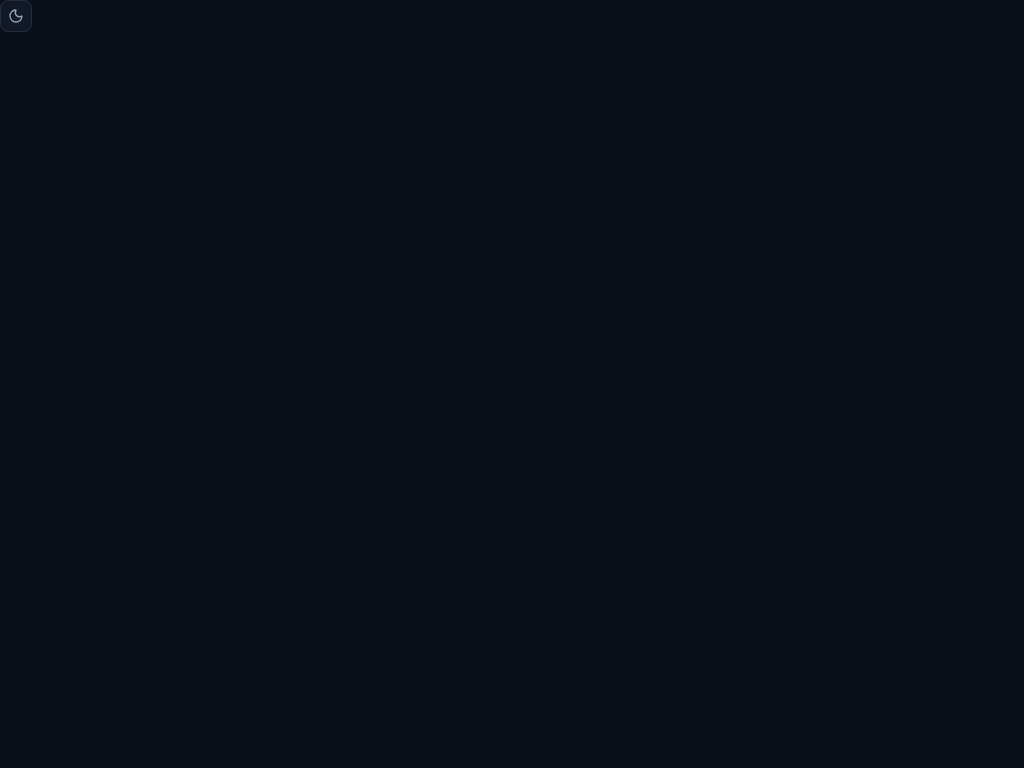
Test: ThemeToggle › cycles on click and updates its own label
The width and height of the screenshot is (1024, 768).
Click the button at (16,16), box [0,0,32,32]
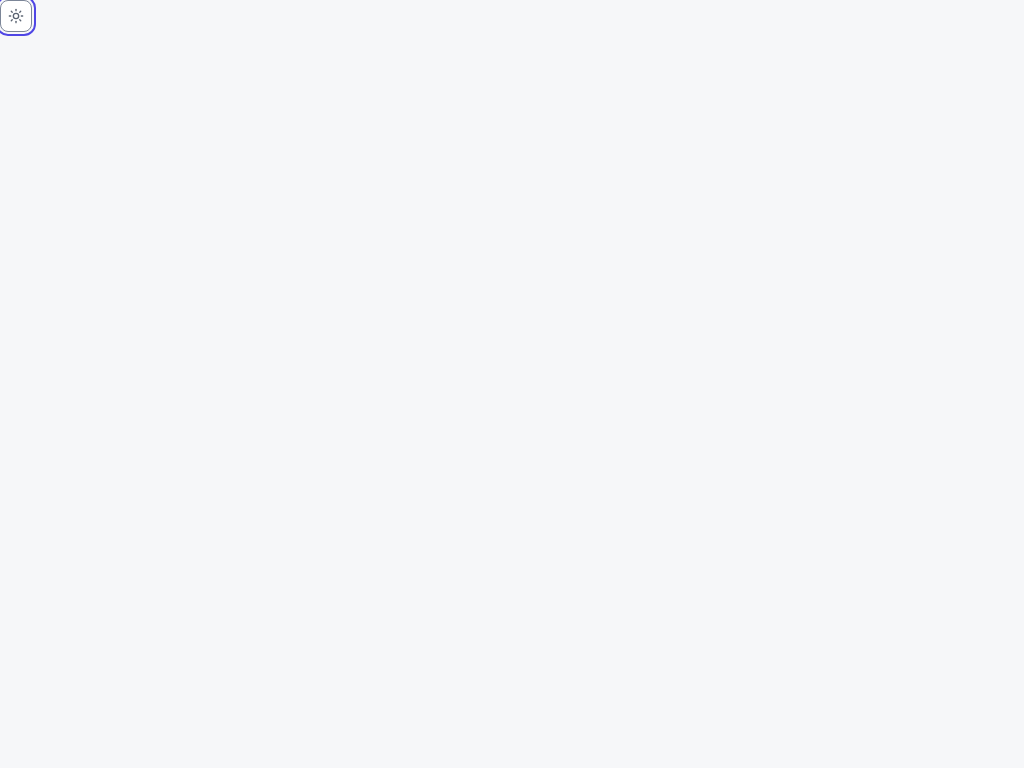
Check: the button named "Theme: light (switch to system)" is shown, box [0,0,32,32]
